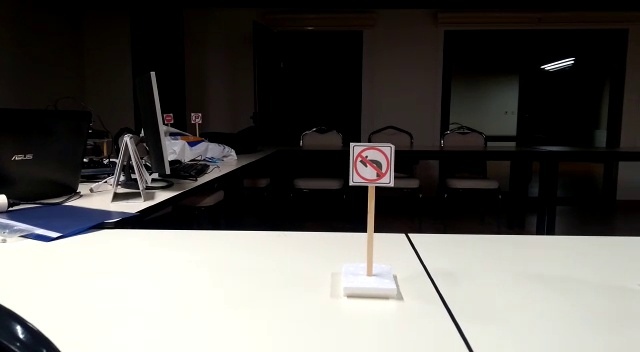sola_donulmez: (352, 146, 391, 183)
